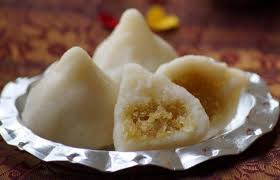modak: (32, 53, 125, 141), (102, 3, 188, 76)
